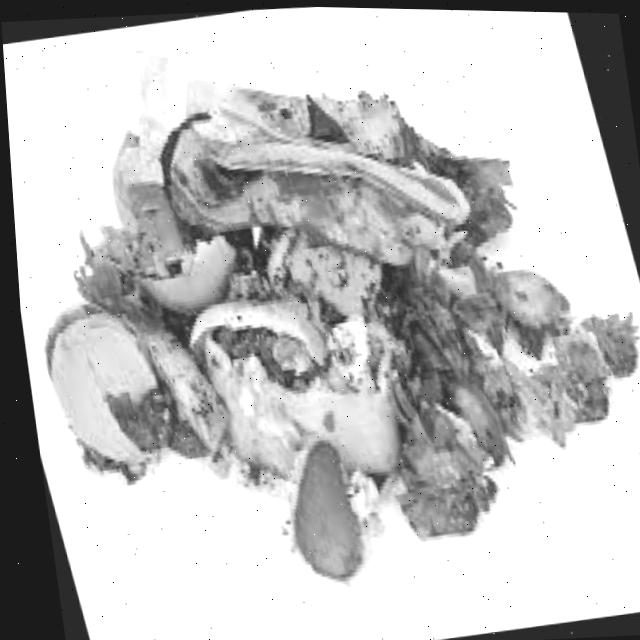Garbage: (43, 53, 632, 575)
